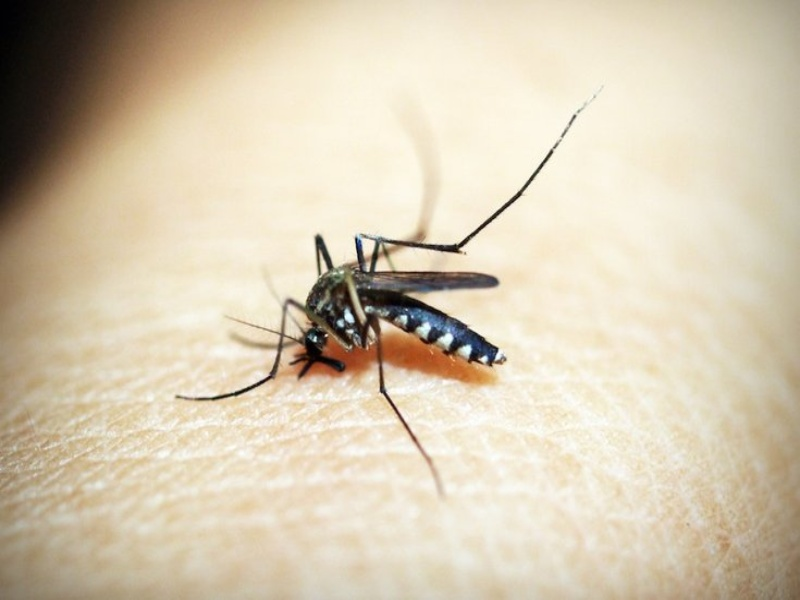dengue_mosquito: (259, 232, 514, 400)
